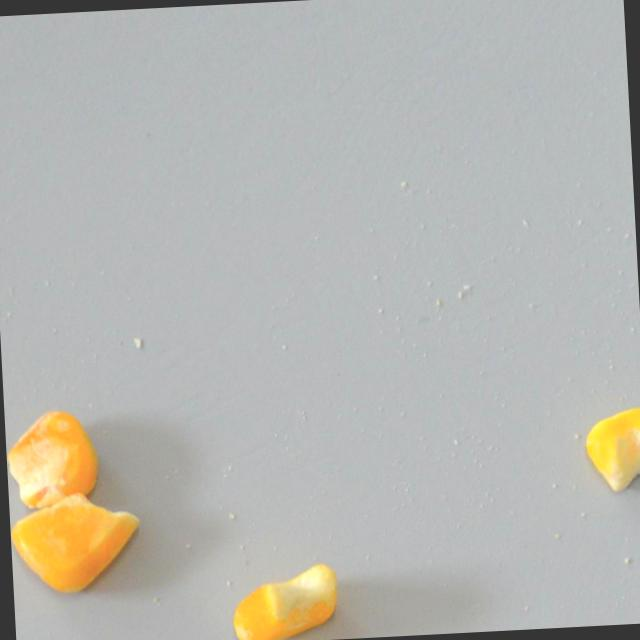no_canjicado: (231, 561, 341, 640), (584, 405, 640, 495)
pelicula: (11, 487, 147, 600), (5, 407, 102, 510)
